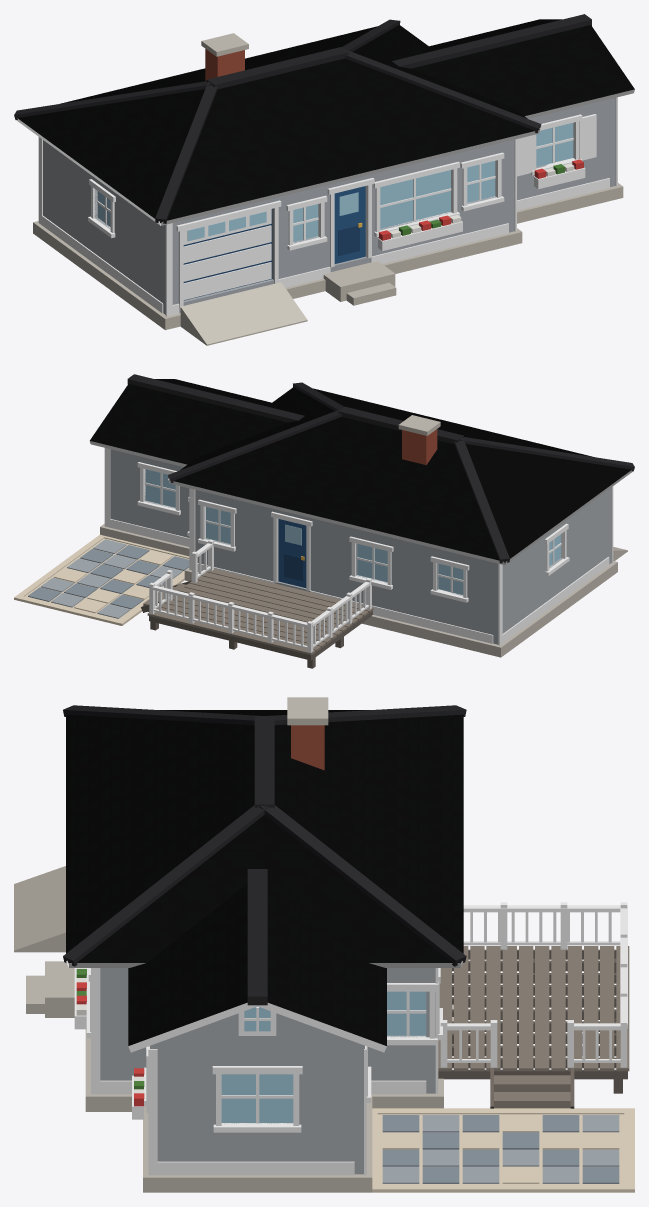
File: base-02-level4.glb
3 views of the same model, one above another, from view 1: azimuth 30°, elevation 25°; view 2: azimuth 150°, elevation 25°; view 3: azimuth 270°, elevation 25° (orthographic). The views are drawn at different scales.
Parts seen in each view (by area): view 1: base_house_2_finished, piece_addition; view 2: base_house_2_finished, piece_addition, piece_deck, piece_patio; view 3: base_house_2_finished, piece_addition, piece_deck, piece_patio.
Part boxes in pixels (x1=…): base_house_2_finished: x1=14, y1=19, x2=541, y2=345; piece_addition: x1=392, y1=14, x2=634, y2=223; base_house_2_finished: x1=168, y1=382, x2=634, y2=657; piece_addition: x1=89, y1=374, x2=304, y2=556; piece_deck: x1=141, y1=539, x2=373, y2=668; piece_patio: x1=14, y1=534, x2=189, y2=625; base_house_2_finished: x1=14, y1=697, x2=466, y2=1111; piece_addition: x1=128, y1=869, x2=386, y2=1192; piece_deck: x1=438, y1=902, x2=629, y2=1108; piece_patio: x1=372, y1=1108, x2=634, y2=1192.
Size of the model in its own units: 16.42 by 6.08 by 13.
Materials: 20 (1 with a texture image).
